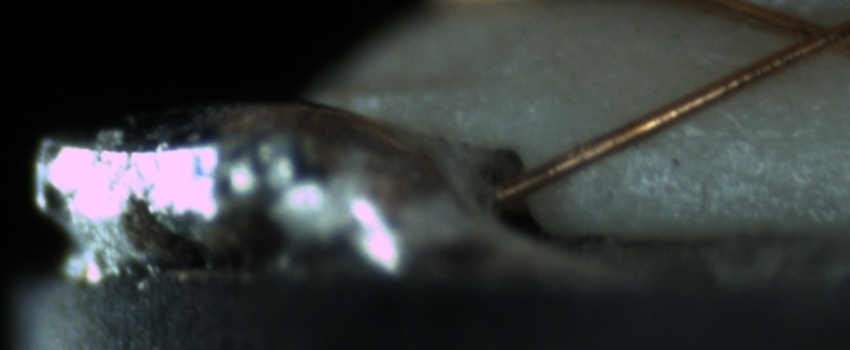CL: (771, 6, 850, 62)
DL: (669, 105, 848, 170)
